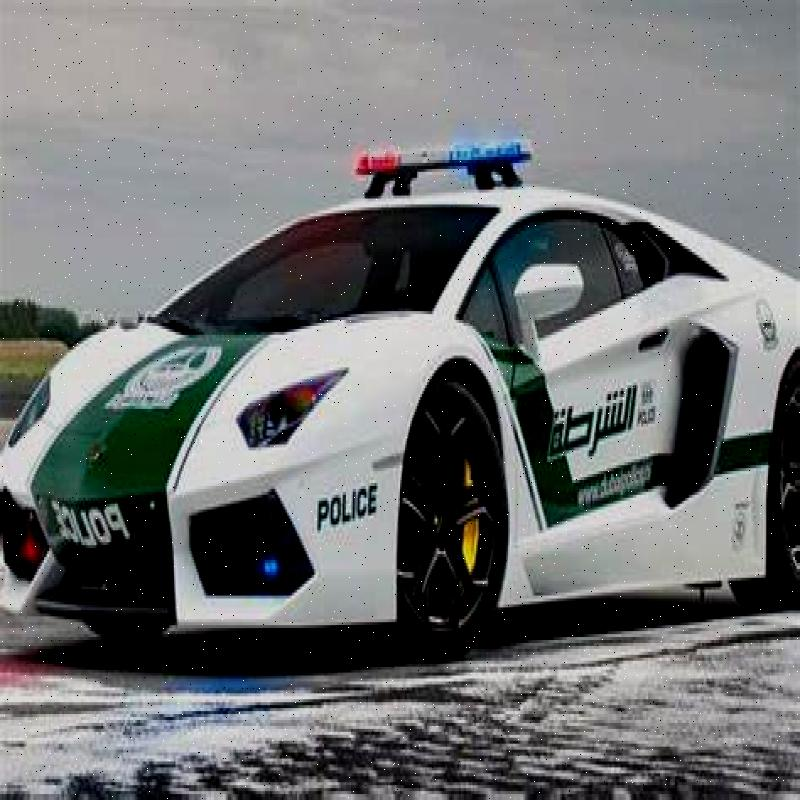AmbulanceSiren: (346, 121, 544, 185)
car: (16, 188, 799, 618)
